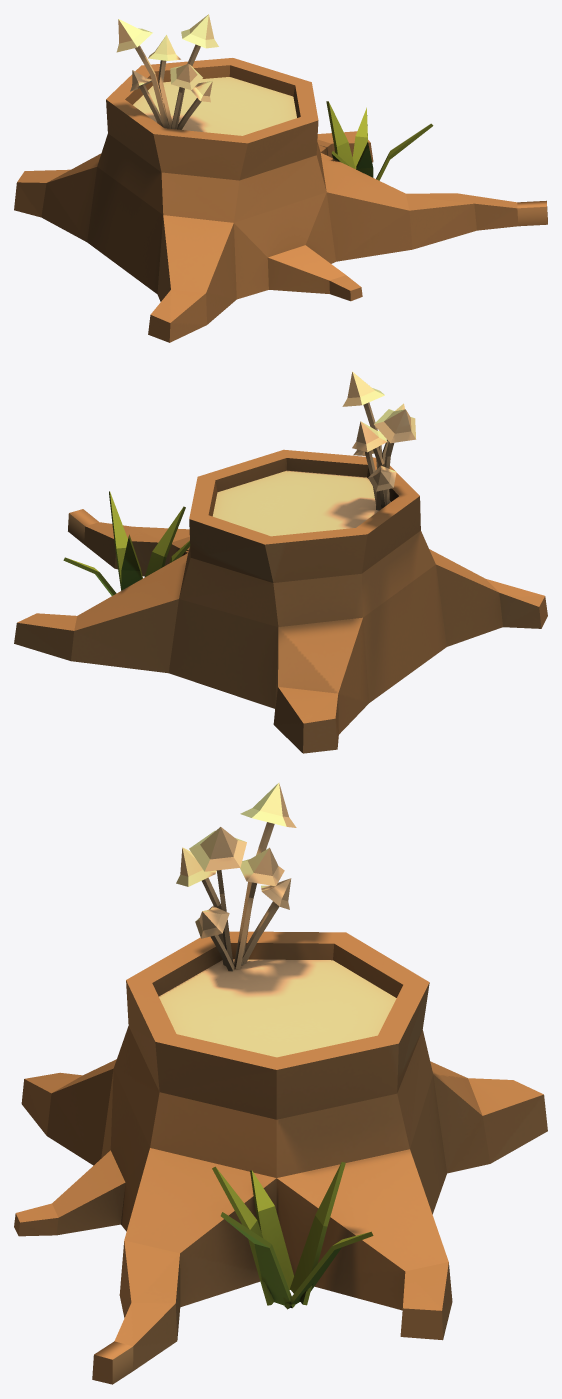
The model's file is treestump.gltf.
The picture shows the model from 3 angles, top to bottom: view 1: azimuth 30°, elevation 25°; view 2: azimuth 150°, elevation 25°; view 3: azimuth 270°, elevation 25°; orthographic projection. The views are drawn at different scales.
Parts seen in each view (by area): view 1: tree_stump; view 2: tree_stump; view 3: tree_stump.
Part boxes in pixels (x1,y1,x2,y2): tree_stump: (14,14,547,342); tree_stump: (14,371,547,753); tree_stump: (14,783,547,1384).
Size of the model in its own units: 1.8 by 1.04 by 1.41.
1 material, 1 textured.
